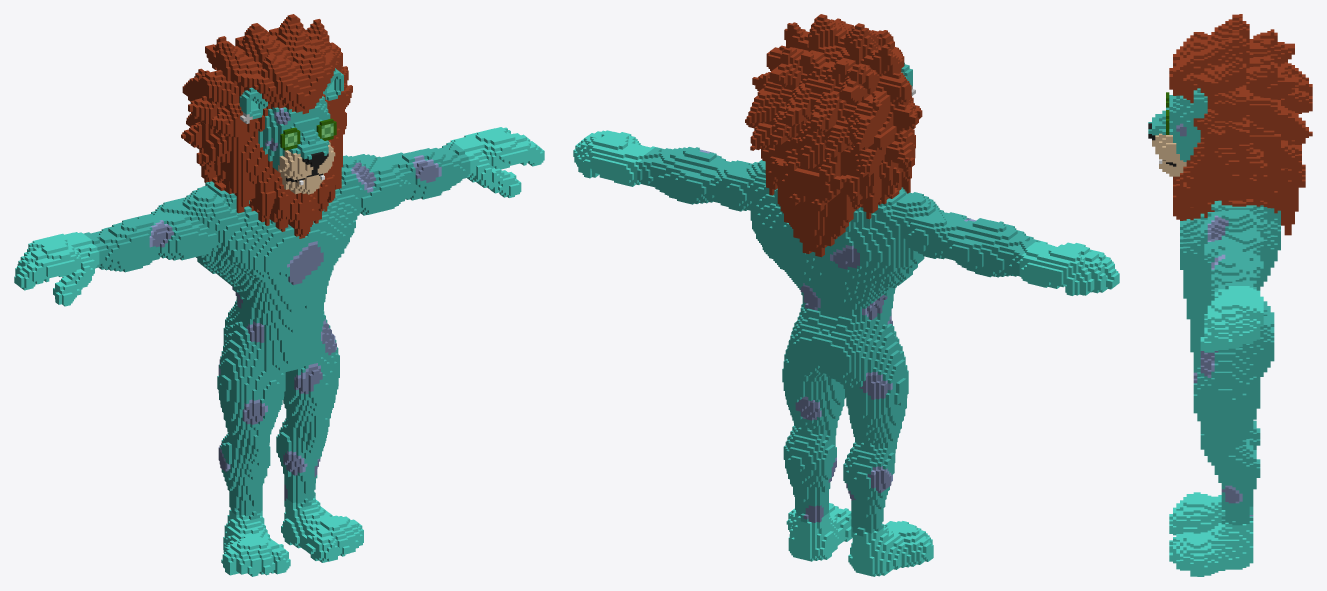
The model's file is 914-Xz-34Dex.fbx.
3 views of the same model, side by side, from view 1: azimuth 30°, elevation 25°; view 2: azimuth 150°, elevation 25°; view 3: azimuth 270°, elevation 25° (orthographic). The views are drawn at different scales.
Visible parts, largest first — view 1: standard.001; view 2: standard.001; view 3: standard.001.
Part boxes in pixels (bbox=[...]): standard.001: bbox=[14, 14, 544, 576]; standard.001: bbox=[573, 14, 1119, 576]; standard.001: bbox=[1148, 14, 1312, 576].
Size of the model in its own units: 17.2 by 16.5 by 4.7.
Materials: 5 (5 with a texture image).
